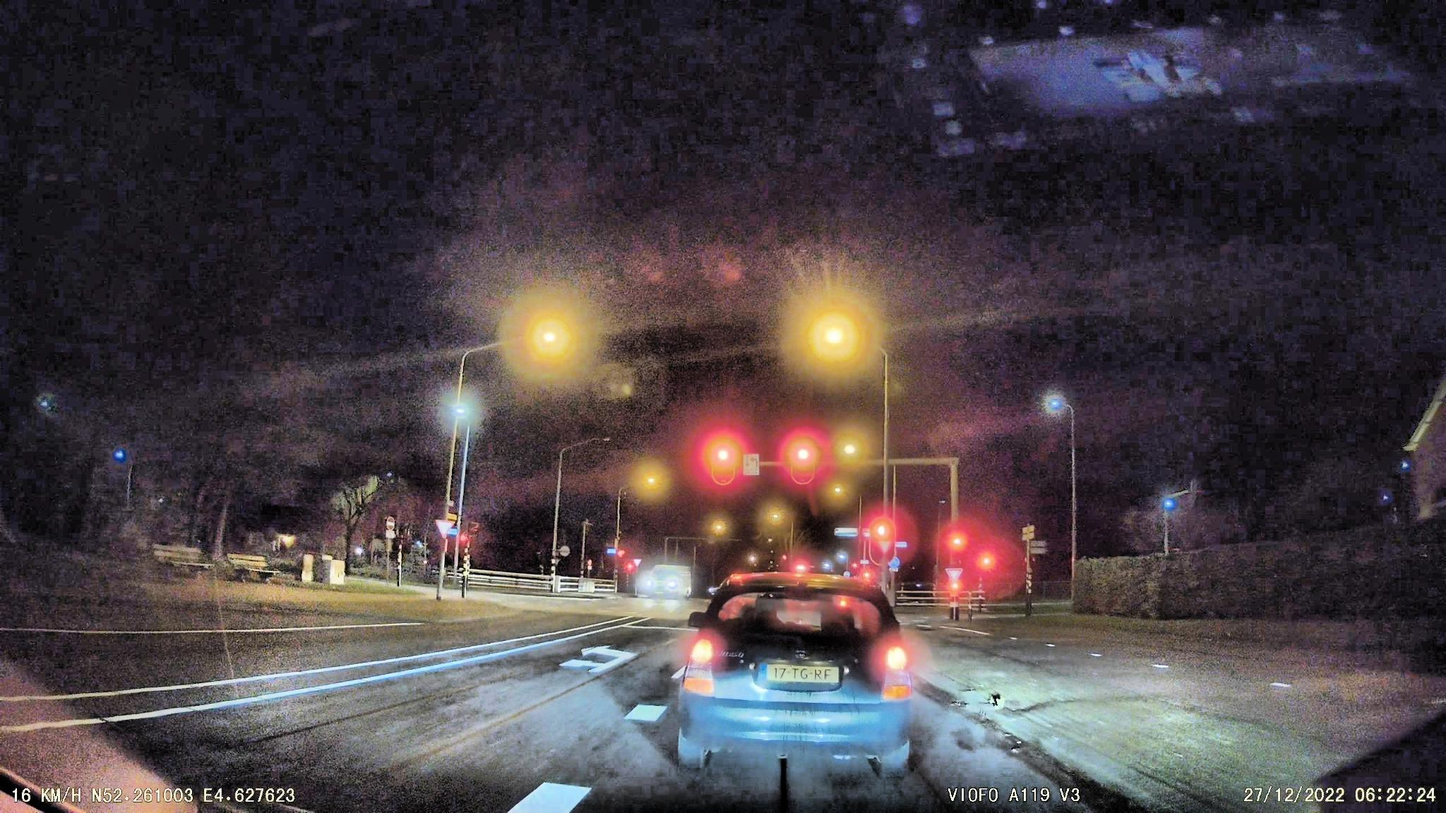Roads: (0, 619, 1069, 813)
